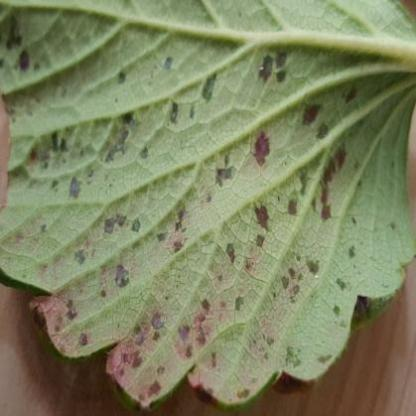Strawberry_Angular_LeafSpot: (0, 6, 409, 413)
